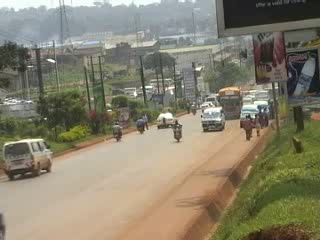Car: (153, 109, 175, 130), (199, 101, 216, 113), (0, 209, 7, 238)
Motorcycle: (169, 121, 184, 143), (111, 121, 123, 143), (135, 120, 145, 135), (190, 104, 197, 117)
